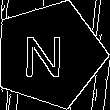N_N: (28, 29, 71, 80)
